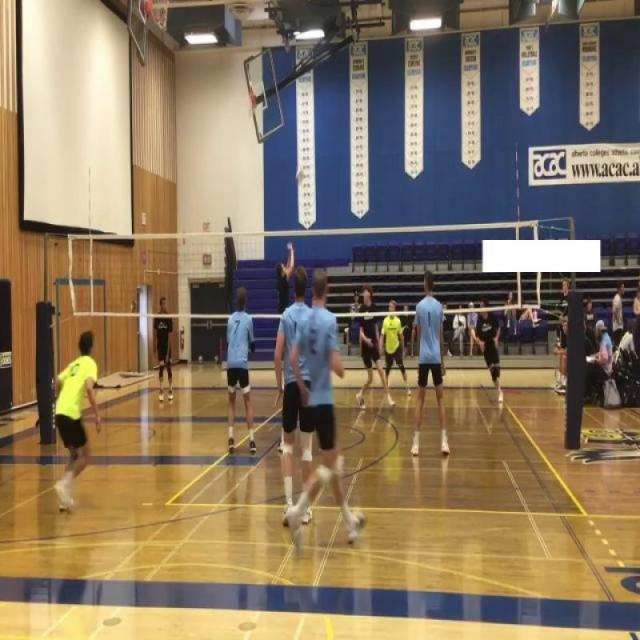volleyball: (295, 166, 304, 186), (198, 356, 204, 364), (214, 356, 219, 364)
